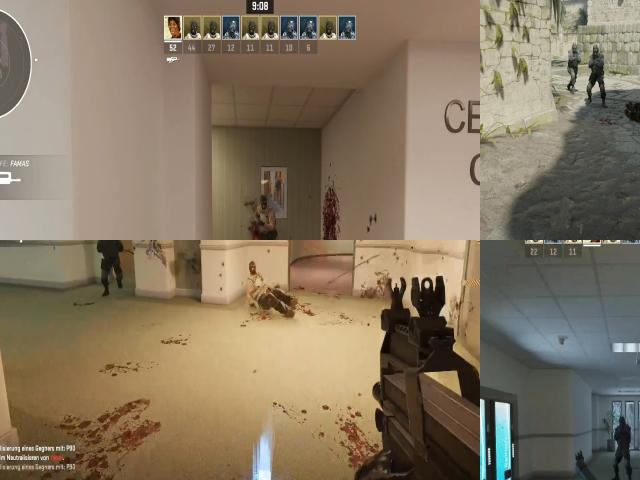CT: (611, 414, 632, 480), (93, 240, 124, 282), (586, 43, 606, 102), (567, 40, 582, 93)
CT-Head: (617, 417, 628, 430), (590, 44, 600, 57), (570, 42, 579, 54)
Dead: (243, 262, 300, 312), (625, 89, 640, 117)
T: (253, 187, 278, 240)
T-Head: (257, 192, 271, 212)
